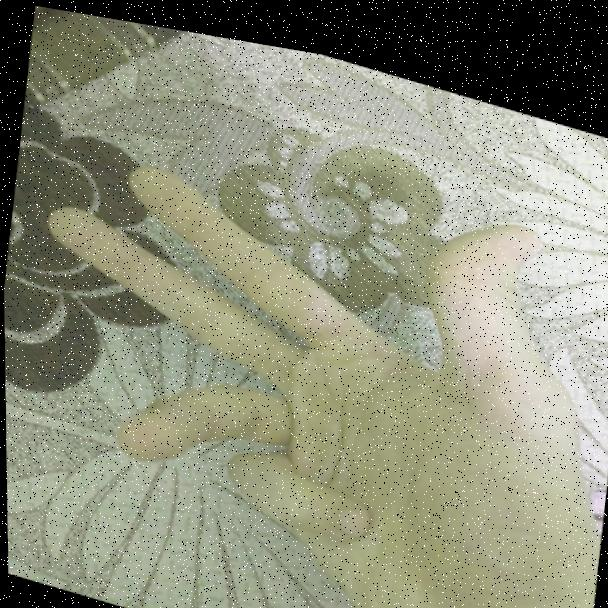five: (168, 118, 576, 554)
